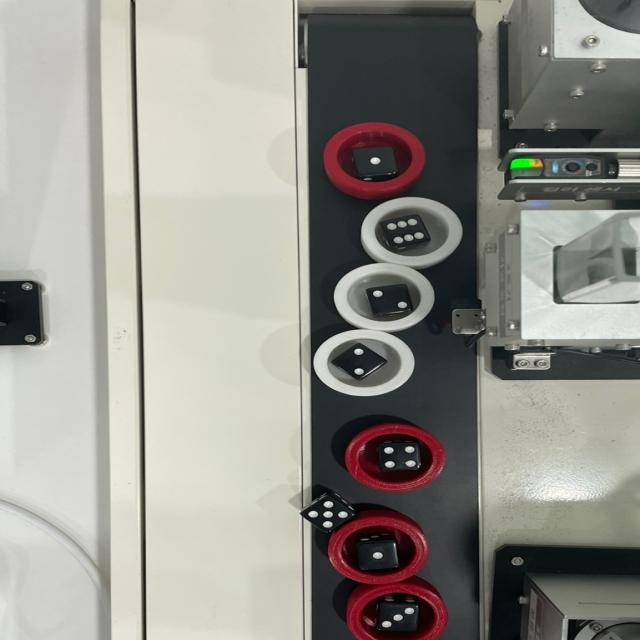DICE1: (354, 149, 395, 177), (359, 543, 400, 569)
DICE2: (369, 283, 413, 314), (341, 346, 382, 376)
DICE3: (381, 604, 421, 630)
DICE4: (381, 442, 422, 470)
DICE5: (304, 496, 351, 530)
DICE6: (388, 217, 429, 246)
RedChip: (320, 120, 425, 193), (343, 422, 446, 490), (328, 517, 427, 586), (344, 585, 449, 640)
WhiteChip: (360, 195, 465, 269), (310, 330, 417, 400), (332, 263, 437, 332)
